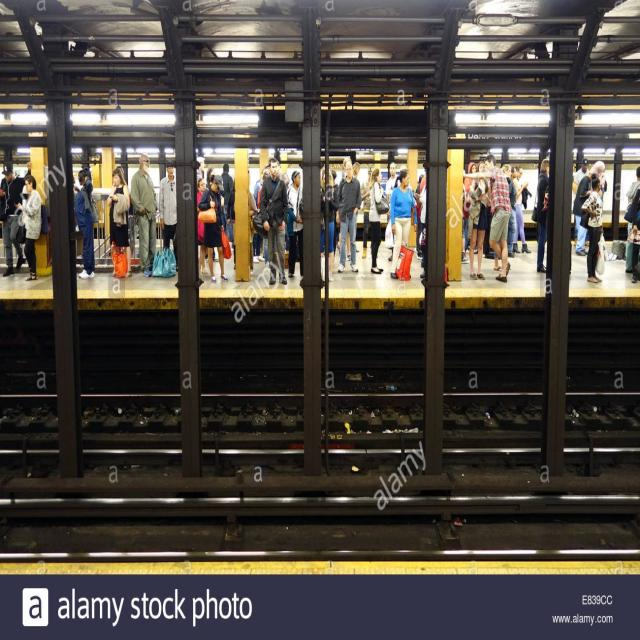body: (462, 153, 513, 284), (196, 173, 232, 285), (0, 159, 32, 278), (259, 156, 288, 285), (130, 153, 158, 279), (389, 168, 418, 280), (466, 159, 492, 282), (334, 160, 362, 274), (580, 172, 608, 284), (14, 173, 42, 282), (106, 167, 132, 280), (366, 166, 391, 276), (73, 168, 96, 281), (412, 164, 434, 278), (320, 167, 340, 283), (158, 160, 178, 274), (572, 167, 597, 257), (286, 169, 304, 279), (512, 163, 532, 255), (384, 160, 402, 262), (624, 165, 640, 275), (360, 166, 378, 260), (203, 165, 220, 264), (536, 158, 550, 272), (338, 156, 353, 262), (252, 164, 268, 262), (624, 188, 640, 282), (462, 161, 478, 254), (197, 178, 210, 276), (219, 163, 234, 243), (331, 168, 342, 260), (226, 177, 236, 271), (248, 190, 258, 277), (482, 204, 493, 260), (572, 156, 592, 186), (591, 161, 610, 191), (460, 177, 466, 264), (500, 162, 514, 198), (196, 156, 205, 182), (540, 186, 549, 209), (279, 170, 291, 187), (351, 161, 361, 179), (68, 167, 74, 192), (568, 240, 572, 276), (284, 229, 289, 256), (510, 165, 517, 180), (84, 164, 92, 177), (117, 164, 125, 172), (247, 168, 250, 184)
